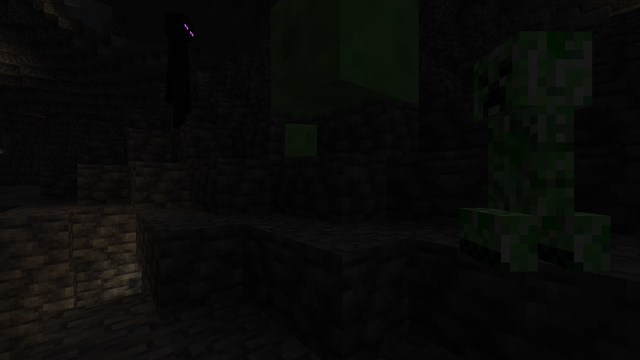creepers: (468, 2, 584, 280)
endermens: (163, 4, 193, 127)
slimes: (267, 0, 421, 117), (278, 121, 321, 159)
